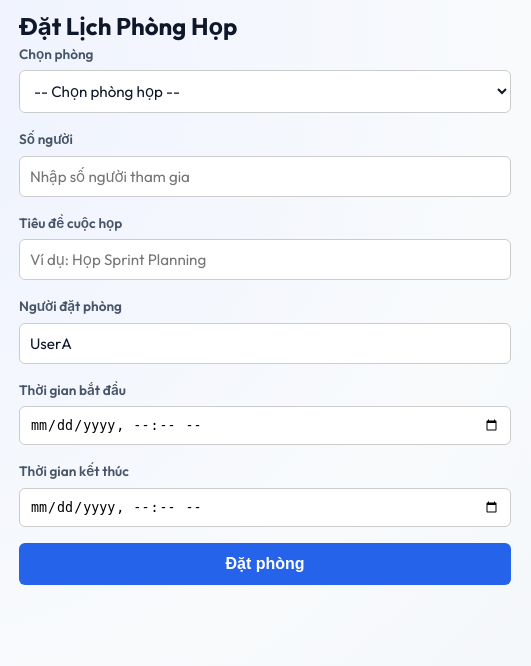
Test: BookingForm Component (TDD - Red Phase) › TC-FE-06: Báo lỗi Alert "Phòng đã có người đặt" khi API trả về 409 OVERLAPPING_BOOKING
Note: Điền form
Select "Phòng Alpha (R-01) - Sức chứa 10" in the dropdown labelled "Chọn phòng" at (265, 92), box [19,70,511,113]
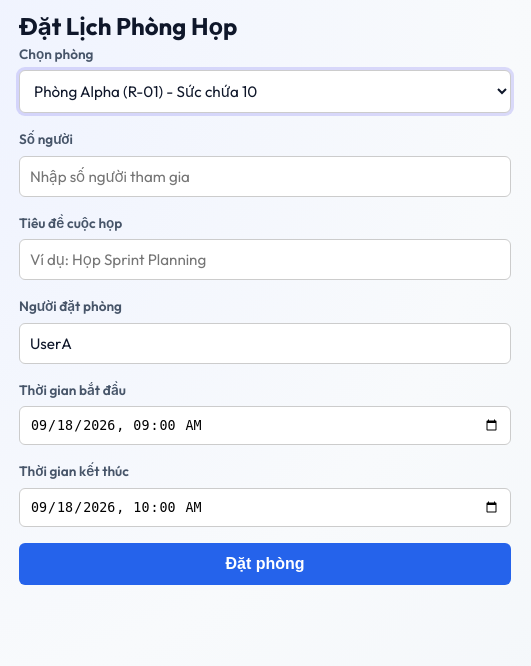
Type "5" into the number field labelled "Số người" at (265, 176), box [19,156,511,197]
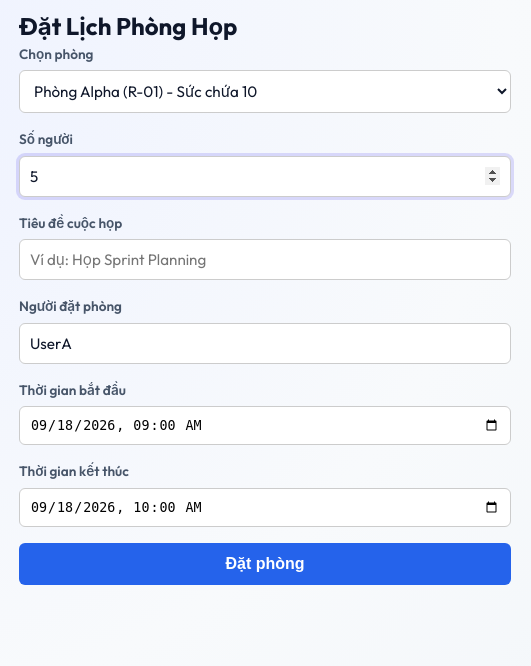
Type "Phỏng vấn" into the field labelled "Tiêu đề cuộc họp" at (265, 260), box [19,239,511,280]
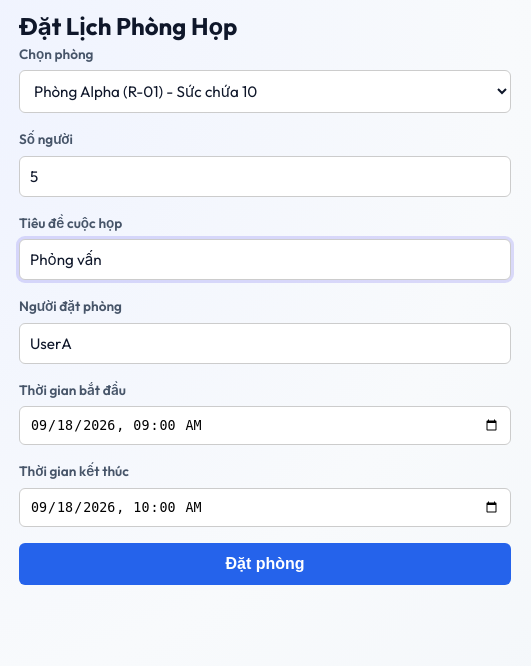
Note: Gửi yêu cầu đặt phòng
Click the button "Đặt phòng" at (265, 564), box [19,543,511,585]
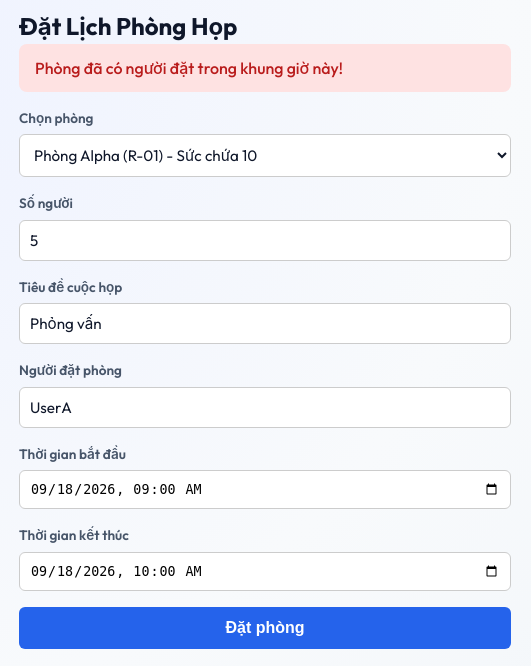
Result: the text "Phòng đã có người đặt trong khung giờ này!" is shown at [19,44,511,92]
